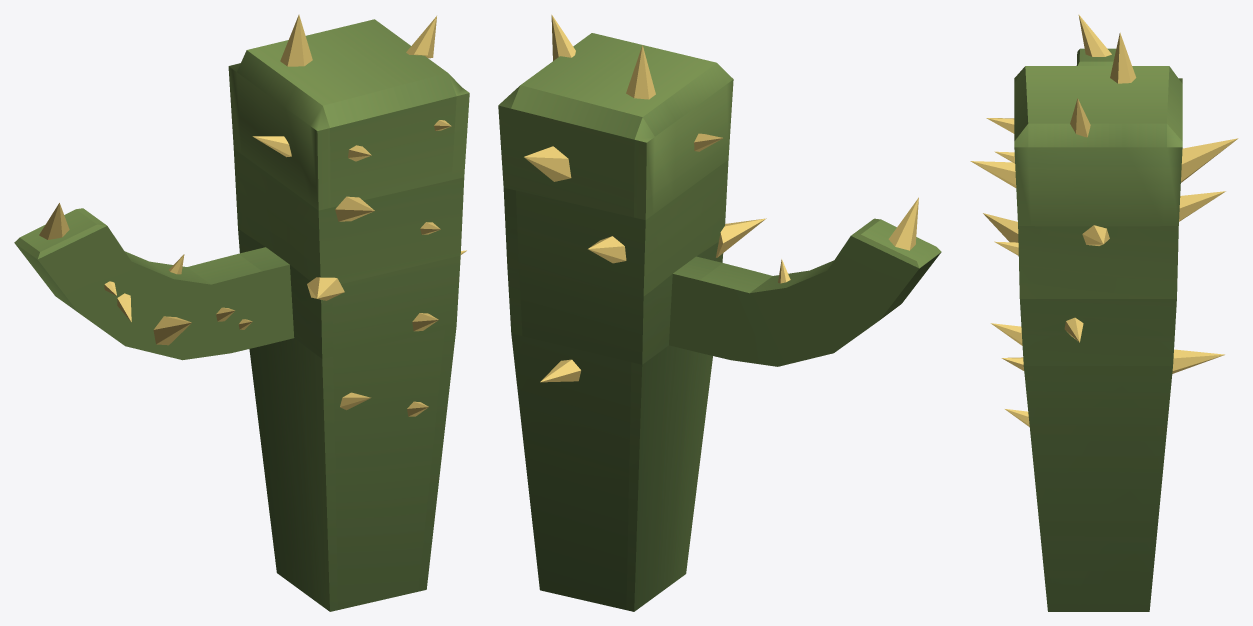
File: cacto2.fbx
The picture shows the model from 3 angles, left to right: view 1: azimuth 30°, elevation 25°; view 2: azimuth 150°, elevation 25°; view 3: azimuth 270°, elevation 25°; orthographic projection. The views are drawn at different scales.
Visible parts, largest first — view 1: cacto pequeno 1, Cone; view 2: cacto pequeno 1, Cone; view 3: cacto pequeno 1, Cone.
Part boxes in pixels (left/top/right/bottom): cacto pequeno 1: left=14, top=19, right=469, bottom=611; Cone: left=39, top=14, right=466, bottom=416; cacto pequeno 1: left=498, top=33, right=941, bottom=611; Cone: left=524, top=14, right=918, bottom=382; cacto pequeno 1: left=1014, top=48, right=1182, bottom=611; Cone: left=970, top=14, right=1238, bottom=426.
Size of the model in its own units: 180 by 225 by 102.
Materials: 6 (1 with a texture image).
